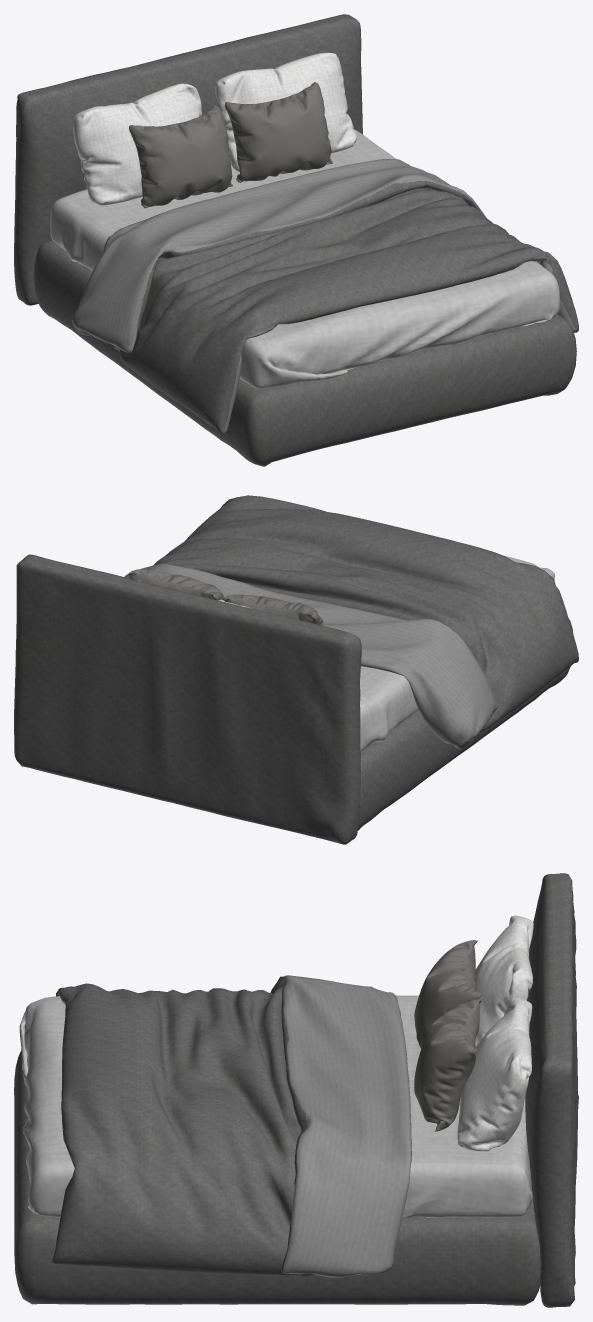
Rendered from bed-upholstered.glb.
3 views of the same model, one above another, from view 1: azimuth 30°, elevation 25°; view 2: azimuth 150°, elevation 25°; view 3: azimuth 270°, elevation 25° (orthographic). The views are drawn at different scales.
Visible parts, largest first — view 1: Blanket_LP, Base_LP_Bed_0, Mattress_LP, HeadBoard_LP, PillowsBig_1_LP, PillowsSmall_2_LP, PillowsSmall_1_LP, PillowsBig_2_LP; view 2: HeadBoard_LP, Blanket_LP, Base_LP_Bed_0, Mattress_LP, PillowsSmall_1_LP, PillowsSmall_2_LP; view 3: Blanket_LP, Base_LP_Bed_0, Mattress_LP, HeadBoard_LP, PillowsBig_2_LP, PillowsSmall_2_LP, PillowsBig_1_LP, PillowsSmall_1_LP.
Boxes of the visible parts, bbox=[...] form: Blanket_LP: bbox=[72, 159, 578, 434]; Base_LP_Bed_0: bbox=[33, 240, 576, 466]; Mattress_LP: bbox=[50, 129, 559, 388]; HeadBoard_LP: bbox=[14, 14, 362, 305]; PillowsBig_1_LP: bbox=[73, 83, 201, 205]; PillowsSmall_2_LP: bbox=[225, 82, 332, 182]; PillowsSmall_1_LP: bbox=[129, 105, 232, 208]; PillowsBig_2_LP: bbox=[215, 52, 356, 171]; HeadBoard_LP: bbox=[14, 554, 361, 844]; Blanket_LP: bbox=[124, 495, 578, 749]; Base_LP_Bed_0: bbox=[358, 618, 573, 830]; Mattress_LP: bbox=[360, 555, 554, 751]; PillowsSmall_1_LP: bbox=[223, 594, 323, 625]; PillowsSmall_2_LP: bbox=[128, 569, 224, 600]; Blanket_LP: bbox=[52, 975, 411, 1277]; Base_LP_Bed_0: bbox=[14, 1050, 540, 1305]; Mattress_LP: bbox=[19, 995, 532, 1218]; HeadBoard_LP: bbox=[525, 873, 578, 1307]; PillowsBig_2_LP: bbox=[457, 997, 532, 1151]; PillowsSmall_2_LP: bbox=[414, 999, 481, 1131]; PillowsBig_1_LP: bbox=[475, 915, 533, 1046]; PillowsSmall_1_LP: bbox=[414, 940, 481, 1048].
Bounding box in the file's own units: 2.52 × 1.34 × 2.6.
1 material, 1 textured.
